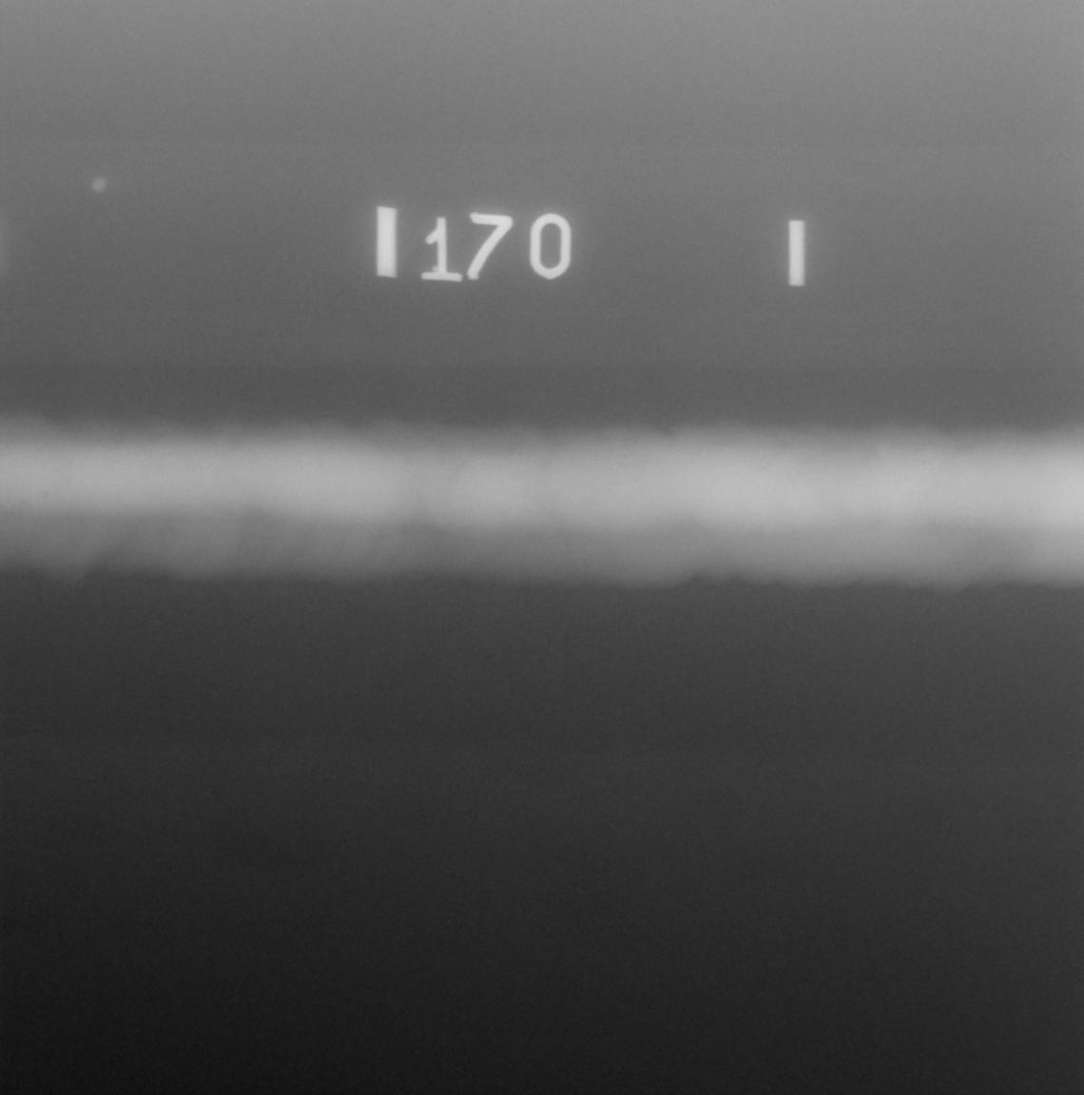Pore/Porosity: (424, 542, 430, 548), (20, 500, 26, 505), (44, 492, 49, 497)
